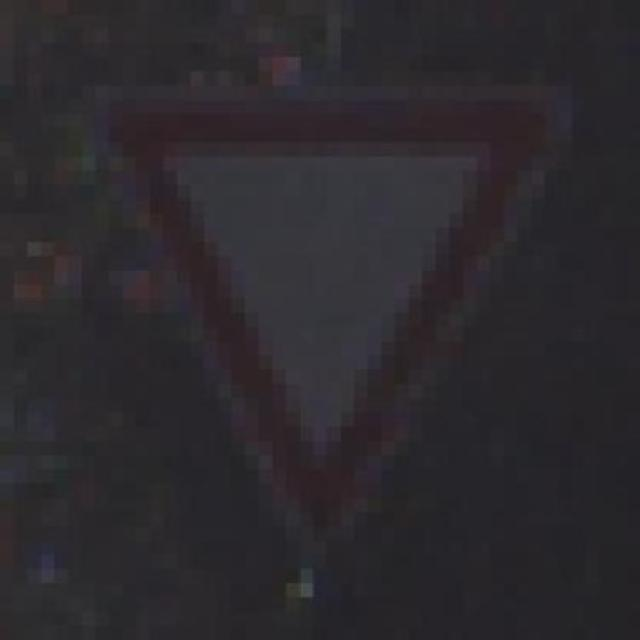Give Way: (54, 72, 586, 540)
